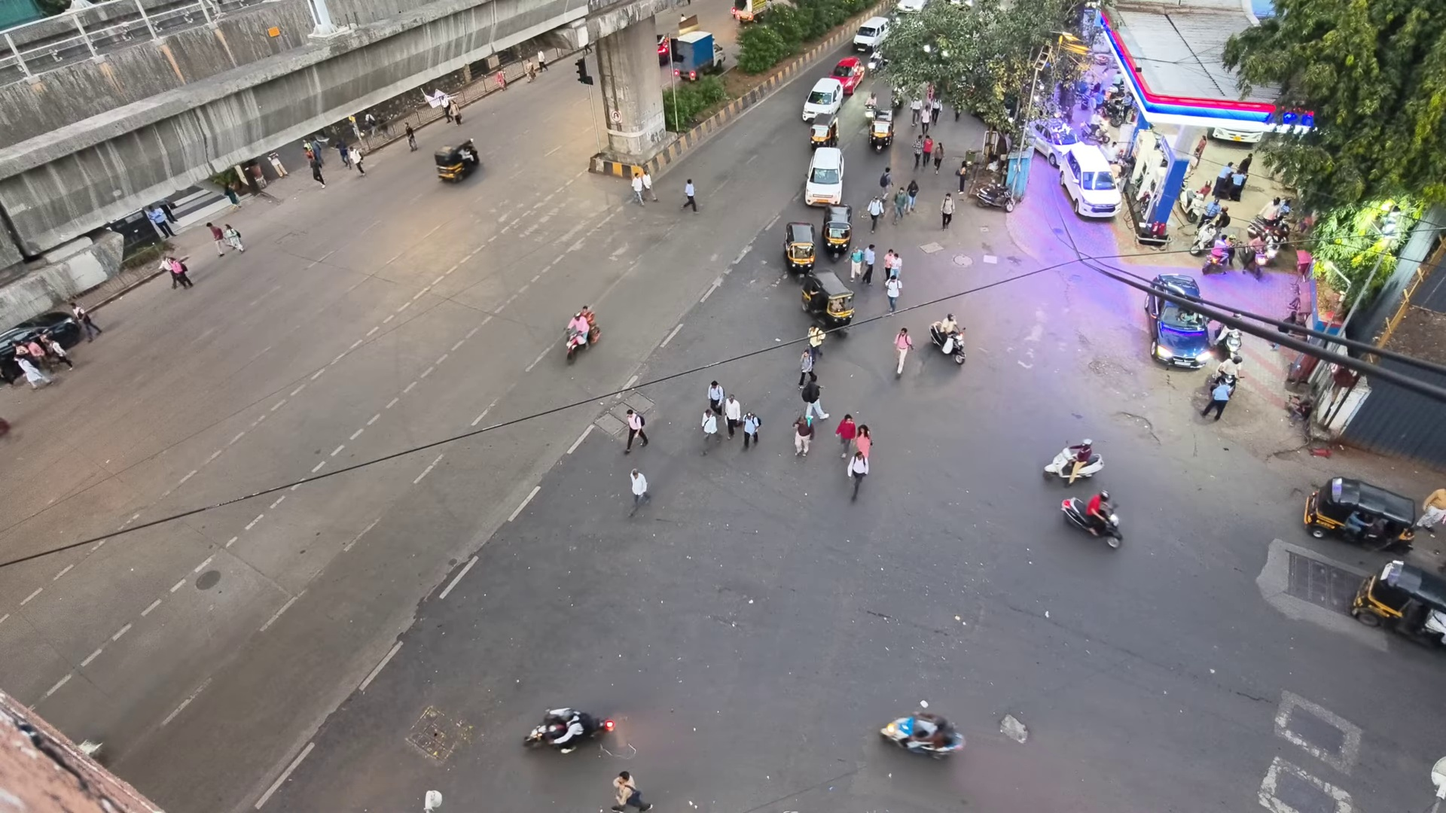walking: (612, 772, 652, 812), (1415, 488, 1445, 536), (69, 301, 102, 341), (801, 372, 828, 419), (1200, 380, 1231, 419), (41, 331, 73, 368), (16, 355, 50, 388), (161, 255, 192, 288), (847, 452, 868, 499), (626, 409, 648, 453), (835, 414, 856, 458), (147, 206, 175, 238), (894, 327, 913, 374), (701, 408, 720, 453), (630, 469, 649, 513), (724, 394, 742, 438), (1213, 162, 1234, 198), (206, 222, 227, 256), (795, 416, 813, 455), (743, 412, 761, 449), (807, 325, 825, 361), (884, 276, 901, 312), (798, 348, 813, 388), (707, 381, 725, 413), (867, 196, 883, 232), (641, 169, 658, 202), (223, 224, 243, 252), (681, 178, 697, 212), (855, 425, 871, 458), (893, 187, 908, 222), (267, 151, 287, 177), (862, 244, 875, 284), (631, 172, 645, 206), (310, 157, 325, 188), (956, 159, 969, 194), (941, 193, 954, 228), (349, 145, 364, 175), (336, 140, 352, 168), (850, 246, 863, 280), (906, 178, 919, 212), (922, 136, 934, 169), (880, 166, 892, 198), (933, 142, 944, 175), (919, 108, 932, 135), (405, 123, 417, 151), (913, 136, 923, 169), (910, 99, 922, 126), (931, 94, 942, 123), (536, 50, 548, 71), (495, 69, 505, 89), (499, 81, 505, 89)
